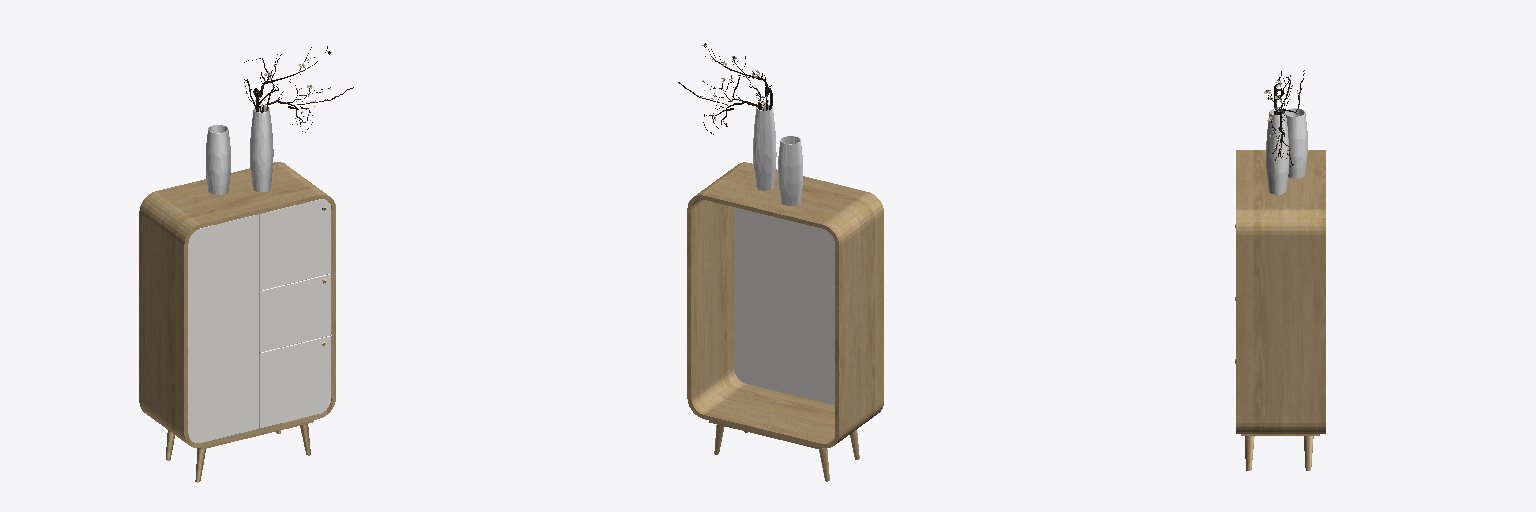
The picture shows the model from 3 angles: view 1: azimuth 30°, elevation 25°; view 2: azimuth 150°, elevation 25°; view 3: azimuth 270°, elevation 25°; orthographic projection.
Visible parts, largest first — view 1: solid_005, solid_004, solid_001, solid_003; view 2: solid_004, solid_005, solid_001, solid_003; view 3: solid_004, solid_001.
Part boxes in pixels (x1,y1,x2,y2): solid_005: (188, 199, 331, 443); solid_004: (139, 162, 335, 482); solid_001: (206, 107, 273, 194); solid_003: (244, 46, 353, 132); solid_004: (687, 162, 883, 481); solid_005: (734, 207, 834, 404); solid_001: (753, 104, 802, 205); solid_003: (678, 43, 772, 134); solid_004: (1236, 150, 1325, 470); solid_001: (1266, 108, 1307, 194).
Bounding box in the file's own units: 0.8017 × 1.6 × 0.3364.
Materials: 1 (1 with a texture image).